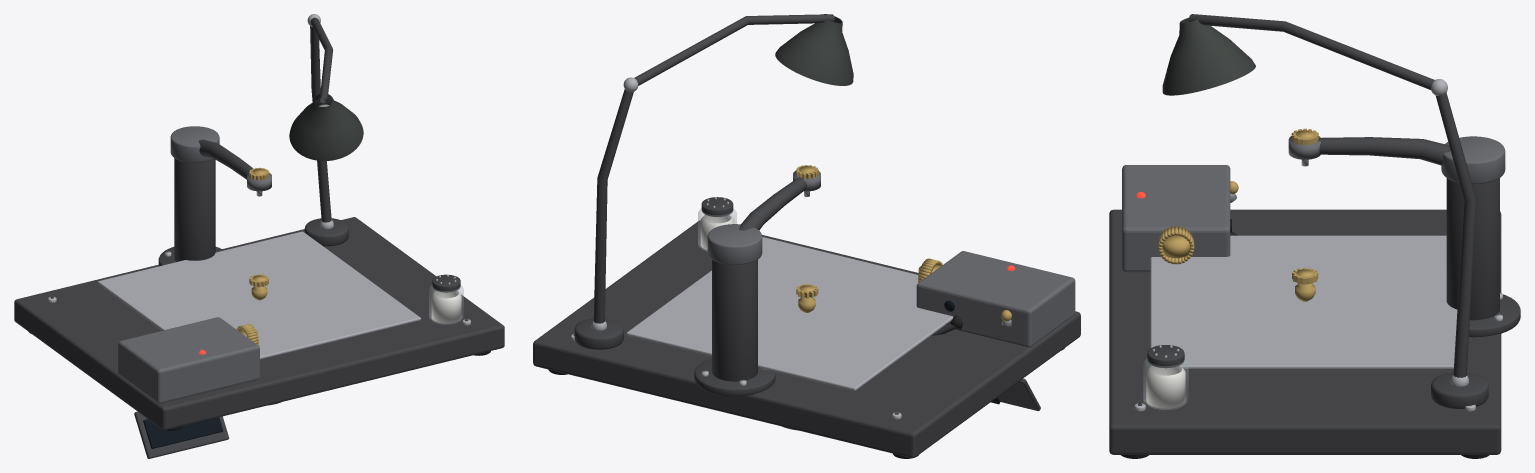
The picture shows the model from 3 angles, left to right: view 1: azimuth 30°, elevation 25°; view 2: azimuth 150°, elevation 25°; view 3: azimuth 270°, elevation 25°; orthographic projection. The views are drawn at different scales.
Parts seen in each view (by area): view 1: base, plate, console, column, lamp, saltpot; view 2: base, plate, console, column, lamp, saltpot; view 3: base, plate, lamp, column, console, saltpot, clamp.
Boxes of the visible parts, box(x1,y1,x2,y2) form: base: box(14, 217, 504, 430); plate: box(97, 231, 420, 359); console: box(118, 317, 259, 458); column: box(158, 126, 271, 266); lamp: box(289, 14, 363, 246); saltpot: box(429, 274, 463, 324); base: box(533, 220, 1080, 458); plate: box(626, 237, 953, 390); console: box(916, 251, 1075, 410); column: box(694, 165, 820, 396); lamp: box(574, 14, 853, 349); saltpot: box(698, 197, 736, 251); base: box(1109, 209, 1501, 458); plate: box(1150, 235, 1457, 368); lamp: box(1162, 14, 1488, 408); column: box(1288, 128, 1520, 337); console: box(1122, 165, 1238, 272); saltpot: box(1143, 345, 1188, 409); clamp: box(1292, 267, 1318, 301).
Size of the model in its own units: 0.5 by 0.4705 by 0.399.
